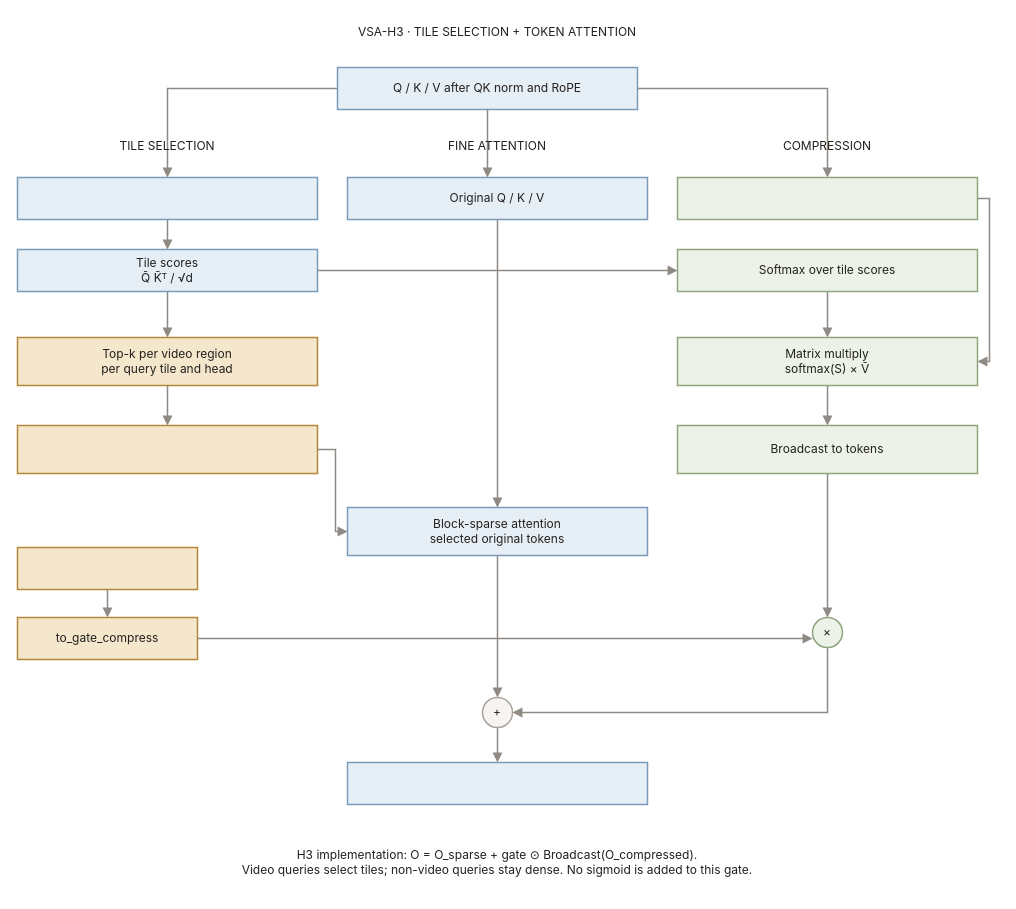
Some shapes in this 1016 by 909 pixel diagram are drawn without their labels. Here are the shapes that lost their labels. From the top down, the centre of each, then its label:
At (167,198): "Pool Q / K per tile".
At (827,198): "Pool V per tile".
At (167,449): "Block mask + non-video visibility rules".
At (107,568): "Input hidden states".
At (497,783): "Restore packed token order".
